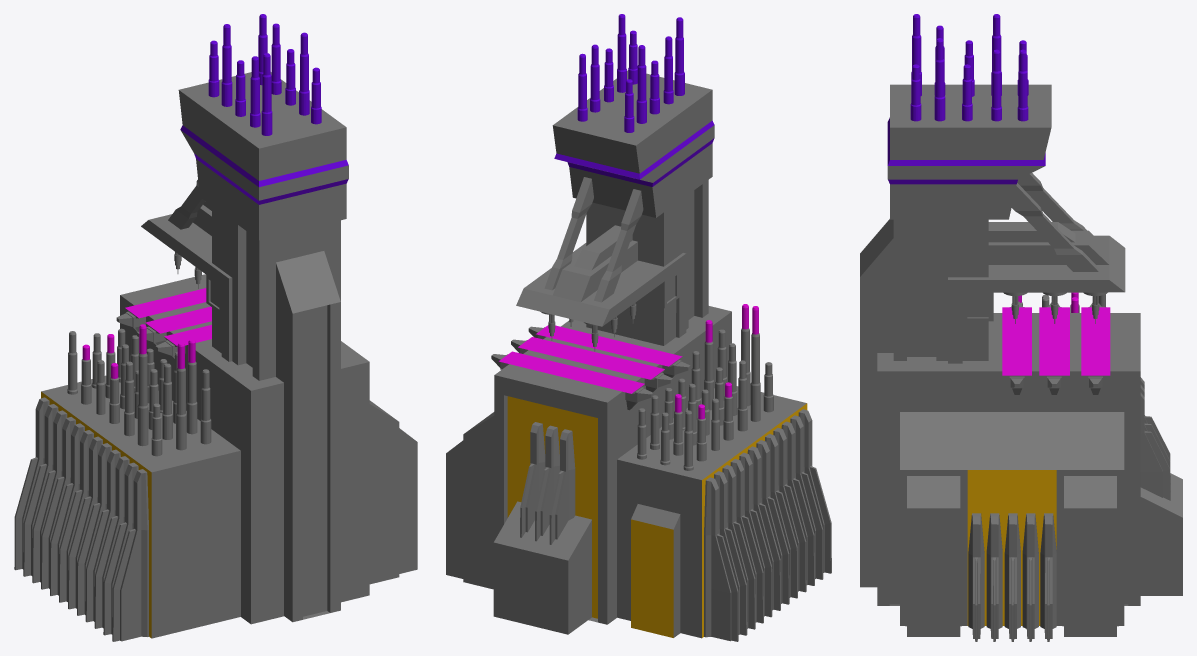
The model's file is Resistor_Style_BPO_Medium.fbx.
3 views of the same model, side by side, from view 1: azimuth 30°, elevation 25°; view 2: azimuth 150°, elevation 25°; view 3: azimuth 270°, elevation 25° (orthographic). The views are drawn at different scales.
Visible parts, largest first — view 1: R_style_ybo_medium; view 2: R_style_ybo_medium; view 3: R_style_ybo_medium.
Boxes of the visible parts, x1=… form: R_style_ybo_medium: x1=14, y1=14, x2=417, y2=641; R_style_ybo_medium: x1=446, y1=14, x2=831, y2=641; R_style_ybo_medium: x1=860, y1=14, x2=1182, y2=641.
Size of the model in its own units: 206 by 344 by 183.
